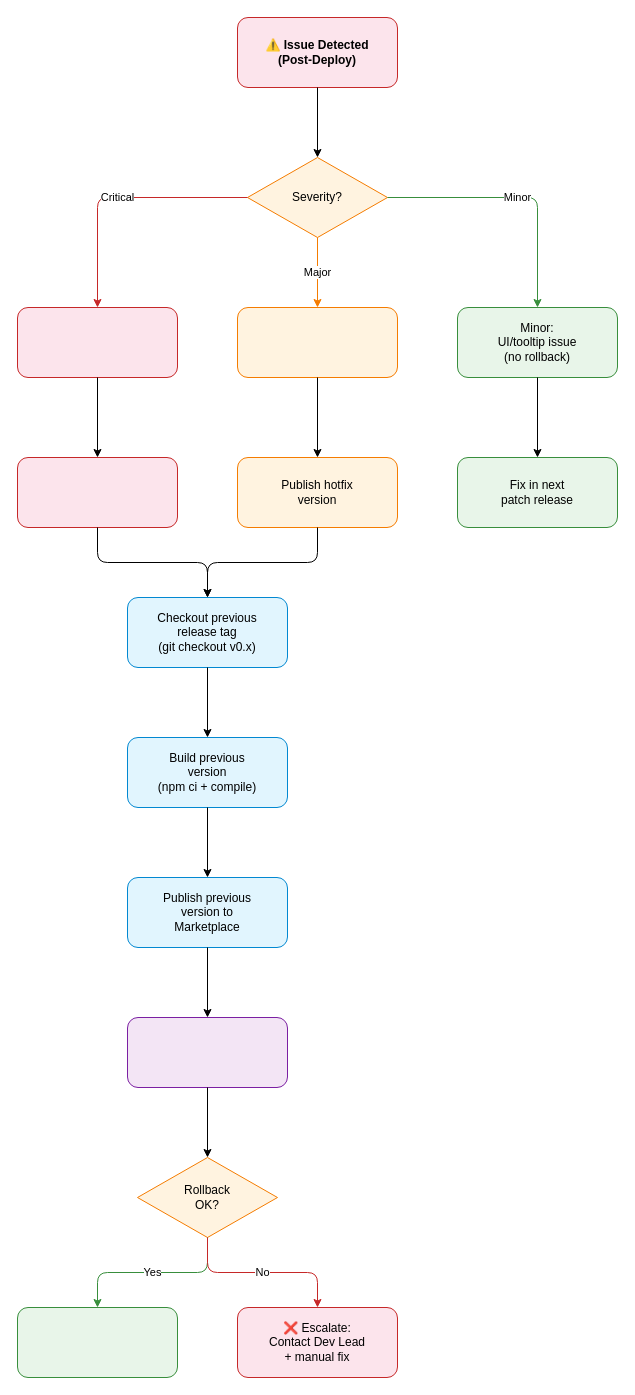
This 635x1395 diagram has some shape labels left out. Each missing label, with the centre of its shape:
"Critical: Extension crashes VS Code" belongs at point 97,342.
"Major: Commands throw unhandled errors" belongs at point 317,342.
"Unpublish broken version from Marketplace" belongs at point 97,492.
"Verify rollback: Install from Marketplace" belongs at point 207,1052.
"✅ Rollback Complete" belongs at point 97,1342.
